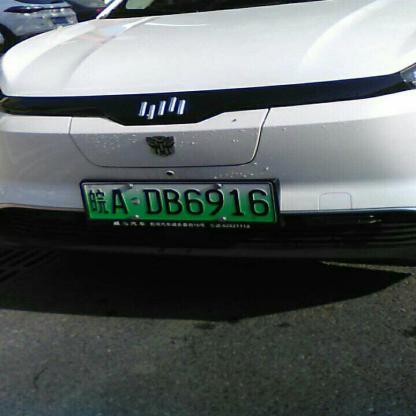lp: (82, 184, 274, 221)
